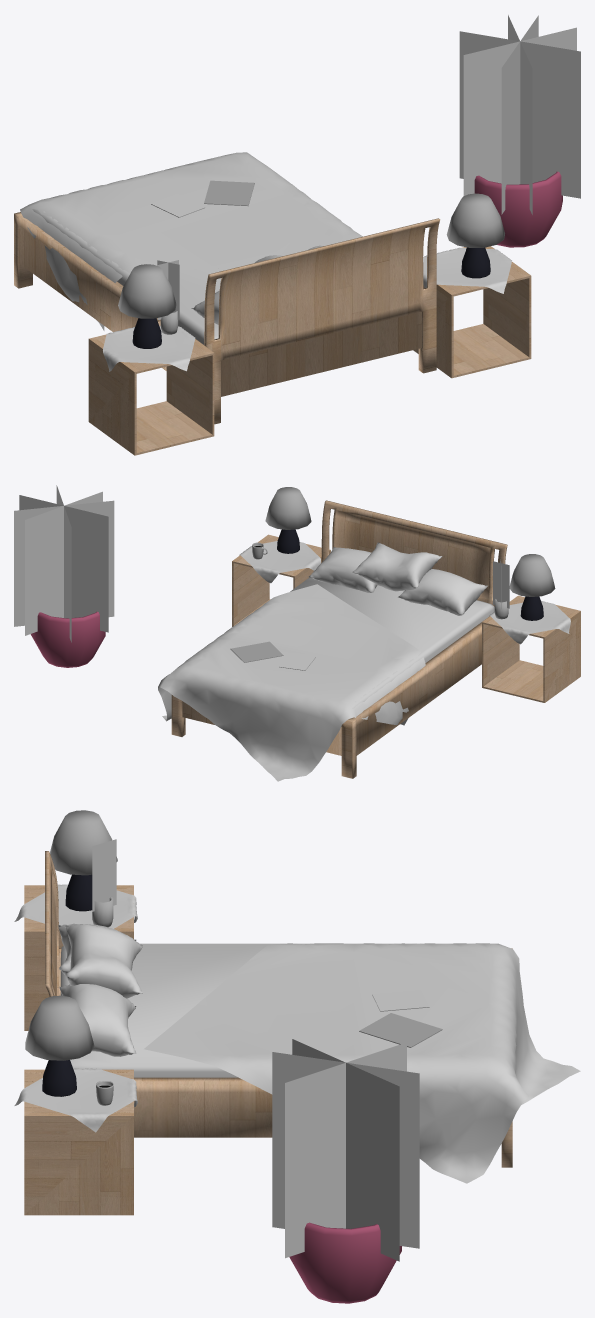
Rendered from Room_Object.fbx.
3 views of the same model, one above another, from view 1: azimuth 30°, elevation 25°; view 2: azimuth 150°, elevation 25°; view 3: azimuth 270°, elevation 25° (orthographic). The views are drawn at different scales.
Parts seen in each view (by area): view 1: Cube, Plane_001, Plane_009, Cube_006, Cube_005, Cylinder_016, Cube_001, Plane_002, Cylinder_002, Cylinder_001, Plane, Cube_022 (+3 smaller); view 2: Plane_001, Cube, Plane_009, Cube_006, Cube_001, Cylinder_016, Cube_004, Cube_005, Cube_003, Cube_002, Plane, Plane_002 (+7 smaller); view 3: Plane_001, Plane_009, Cube_005, Cube_001, Cube, Cylinder_016, Cube_004, Plane, Cylinder_001, Cube_002, Cylinder_002, Cube_006 (+6 smaller).
Boxes of the visible parts, box(x1,y1,x2,y2) form: Cube: box(14, 212, 440, 424); Plane_001: box(20, 152, 362, 330); Plane_009: box(459, 15, 580, 214); Cube_006: box(88, 321, 214, 455); Cube_005: box(413, 246, 531, 378); Cylinder_016: box(474, 171, 562, 247); Cube_001: box(32, 209, 230, 344); Plane_002: box(103, 326, 195, 371); Cylinder_002: box(118, 264, 176, 318); Cylinder_001: box(446, 193, 504, 247); Plane: box(423, 247, 511, 293); Cube_022: box(204, 180, 254, 206); Plane_001: box(158, 584, 425, 781); Cube: box(171, 500, 507, 778); Plane_009: box(14, 485, 114, 642); Cube_006: box(482, 595, 580, 702); Cube_001: box(290, 577, 494, 719); Cylinder_016: box(30, 611, 105, 667); Cube_004: box(352, 542, 442, 591); Cube_005: box(232, 534, 330, 626); Cube_003: box(398, 569, 487, 615); Cube_002: box(308, 547, 377, 592); Plane: box(239, 541, 320, 583); Plane_002: box(489, 601, 570, 644); Plane_001: box(144, 943, 580, 1183); Plane_009: box(272, 1039, 419, 1261); Cube_005: box(24, 1069, 133, 1215); Cube_001: box(60, 943, 447, 1077); Cube: box(45, 851, 512, 1167); Cylinder_016: box(289, 1222, 401, 1303); Cube_004: box(65, 924, 142, 998); Plane: box(14, 1068, 137, 1132); Cylinder_001: box(25, 995, 94, 1060); Cube_002: box(59, 984, 136, 1056); Cylinder_002: box(50, 810, 117, 875); Cube_006: box(24, 885, 133, 1030).
Size of the model in its own units: 5.22 by 1.65 by 3.69.
